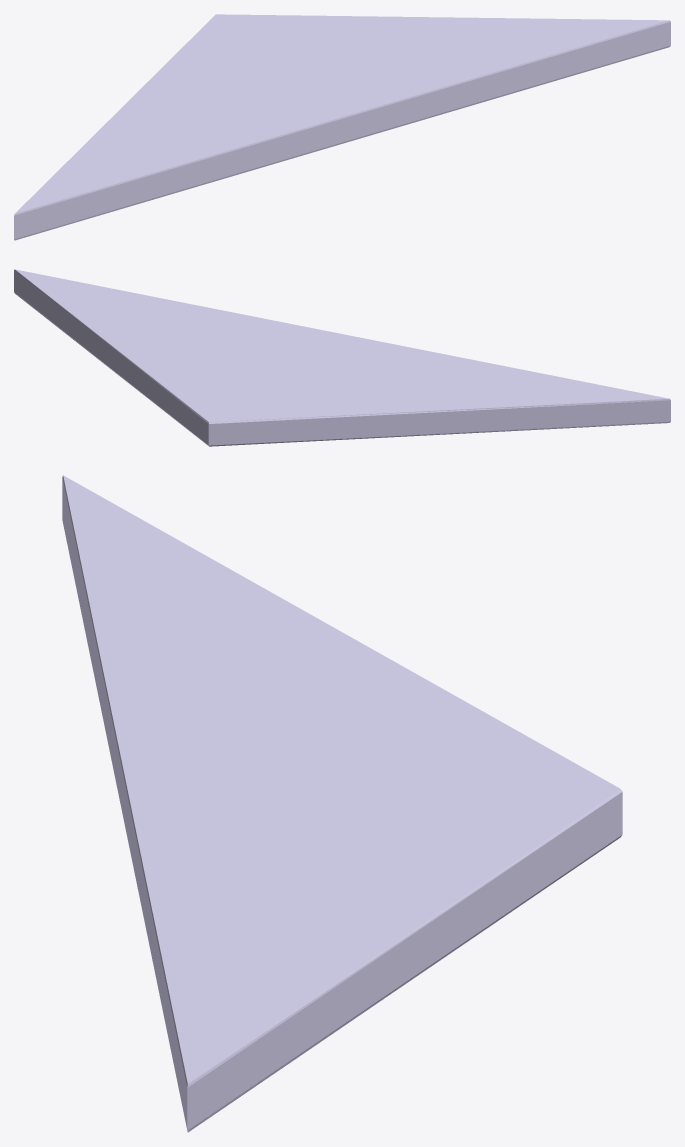
The model's file is SGP.glb.
The picture shows the model from 3 angles, top to bottom: view 1: azimuth 30°, elevation 25°; view 2: azimuth 150°, elevation 25°; view 3: azimuth 270°, elevation 25°; orthographic projection. The views are drawn at different scales.
Size of the model in its own units: 1.83 by 0.068 by 0.7107.
